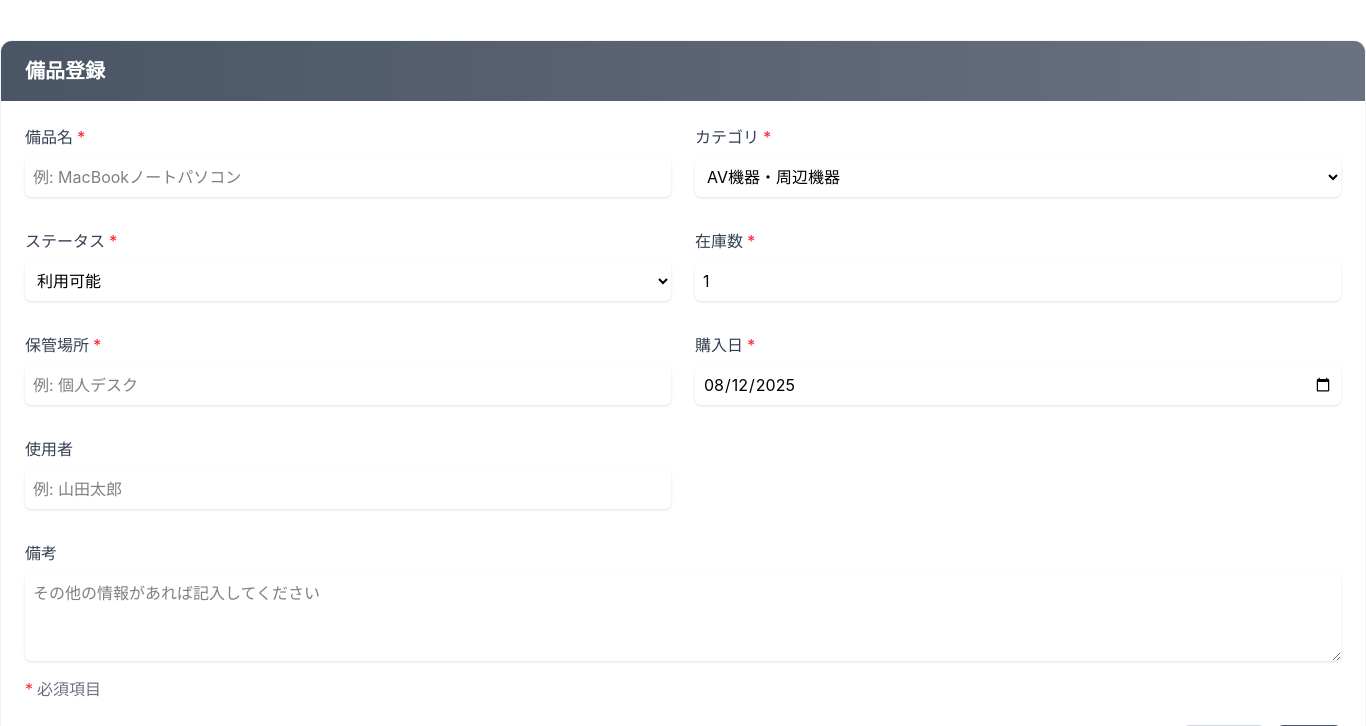
Test: EquipmentFormコンポーネント › 在庫数に無効な値を入力した場合にバリデーションエラーが表示されることを確認
実行 - 無効な値を入力
Replace the text in the number field labelled "在庫数*" with "0" at coordinates (1018, 281), box [695,261,1341,301]
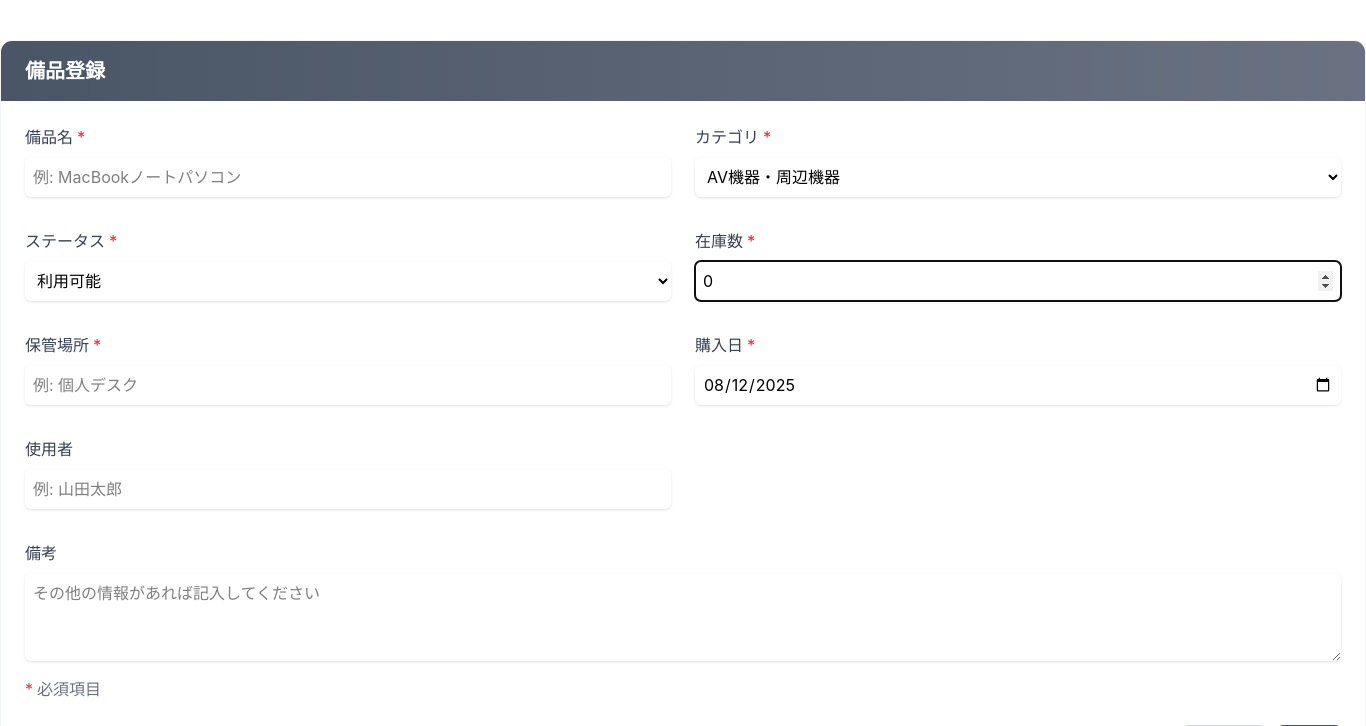
入力欄からフォーカスを外す（onBlurを発火させる）
Press Tab
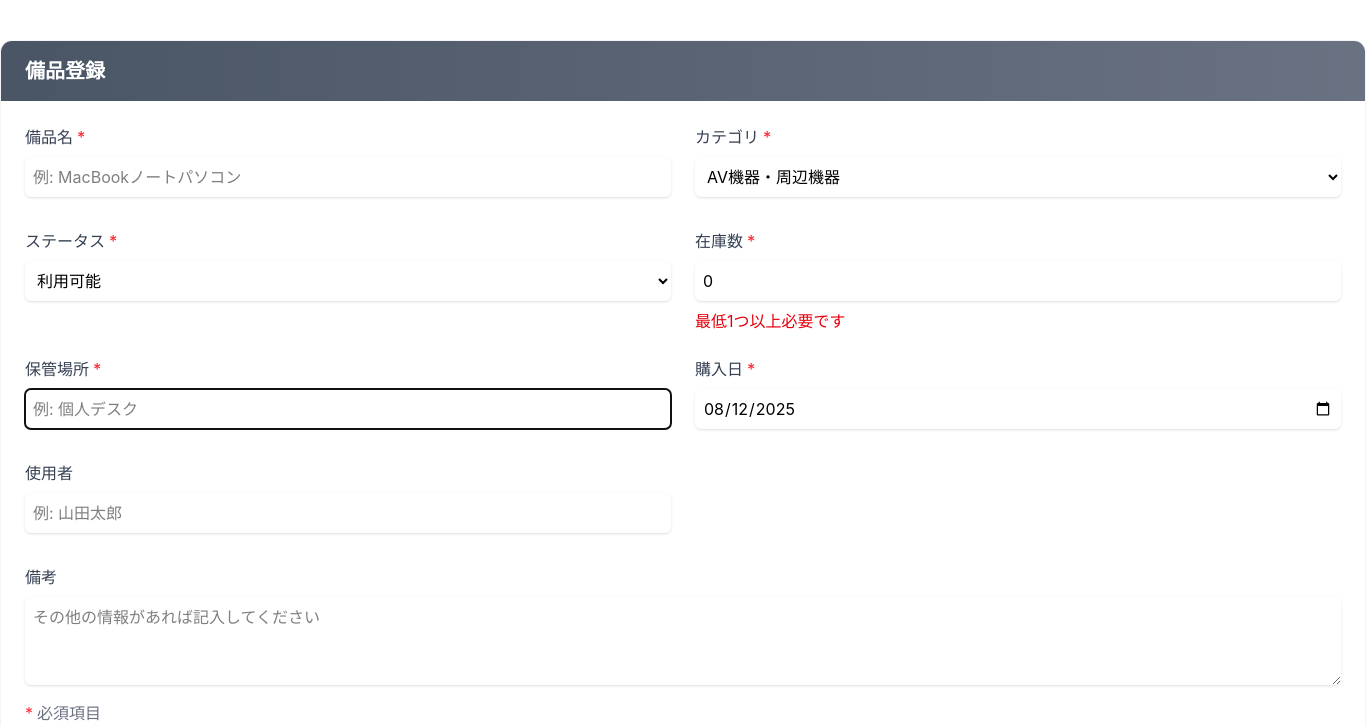
Expected: the text "最低1つ以上必要です" is shown, [695,311,846,331]
